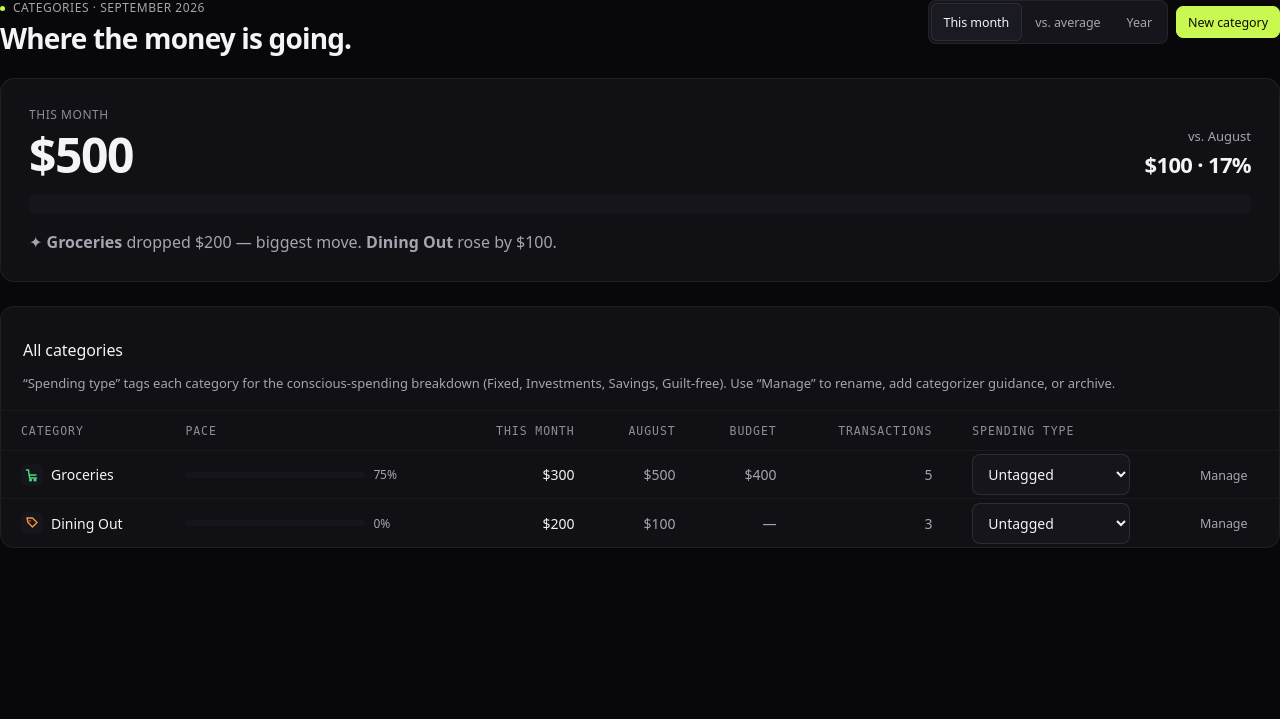
Test: Categories — management › shows a Move to group control in the Manage panel, defaulted to the category's current group
# Manage Groceries — its fixture groupId is "g1" ("Food").
Click the button with aria-label "Manage Groceries".
click(1223, 475)  # box [1188,459,1259,491]
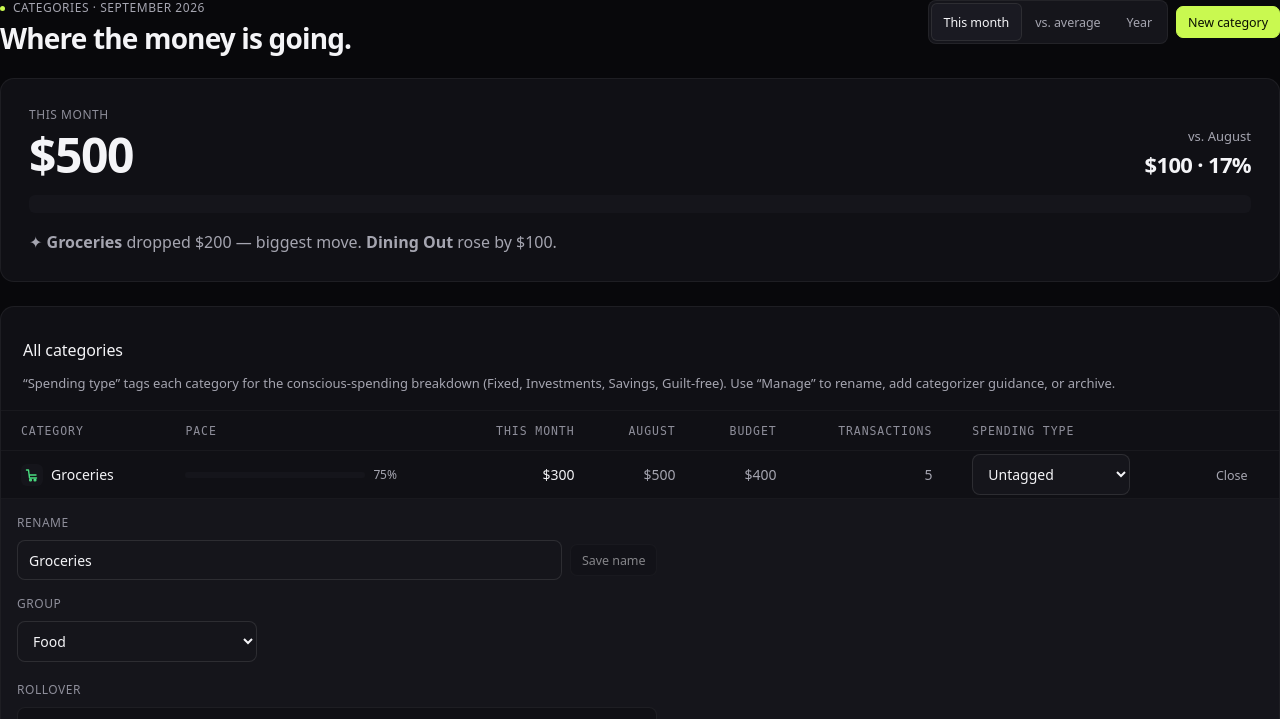
Expected: the dropdown labelled "Group" shows "Food", [17,621,257,662]
